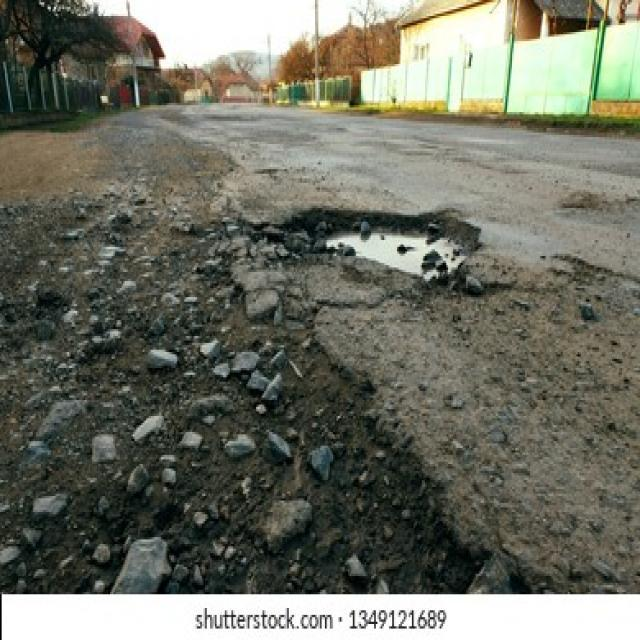Pothole: (290, 204, 484, 282)
